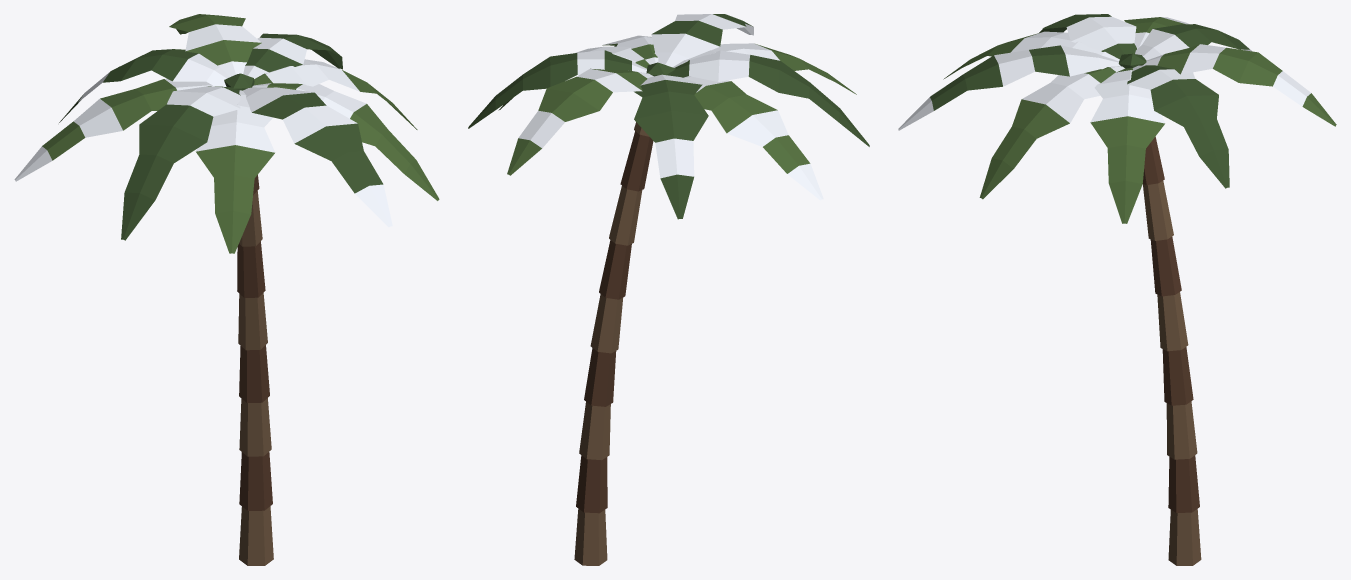
File: palm-3.glb
The picture shows the model from 3 angles, left to right: view 1: azimuth 30°, elevation 25°; view 2: azimuth 150°, elevation 25°; view 3: azimuth 270°, elevation 25°; orthographic projection. The views are drawn at different scales.
Visible parts, largest first — view 1: palm-3; view 2: palm-3; view 3: palm-3.
Boxes of the visible parts, x1,y1,x2,y2 form: palm-3: [14, 14, 439, 565]; palm-3: [468, 14, 869, 565]; palm-3: [898, 14, 1336, 565].
Size of the model in its own units: 6.63 by 8.96 by 7.17.
